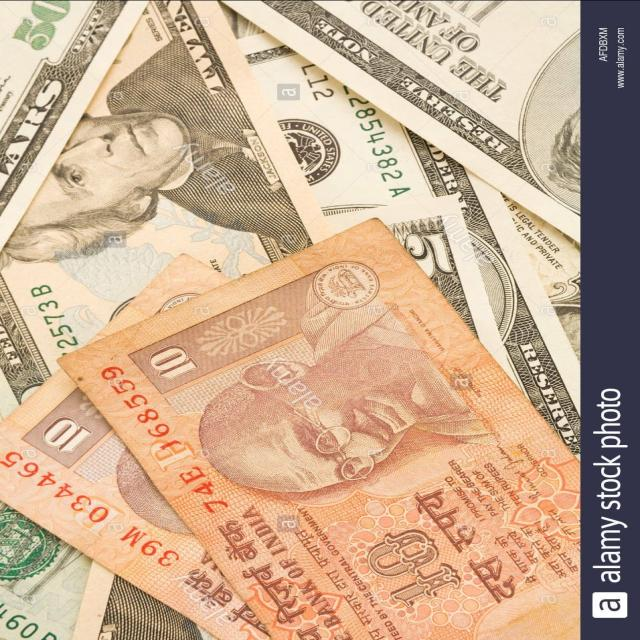10IndianRupees: (66, 219, 575, 640)
